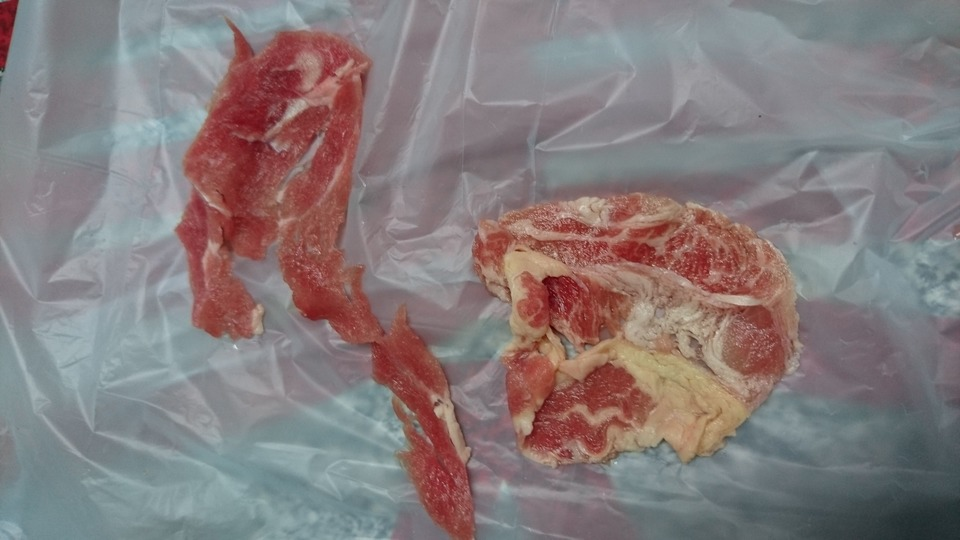restructured meat: (189, 30, 464, 519), (481, 196, 817, 469)
